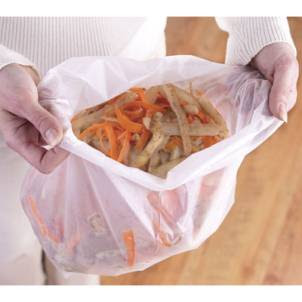plastic bag: (18, 54, 286, 276)
